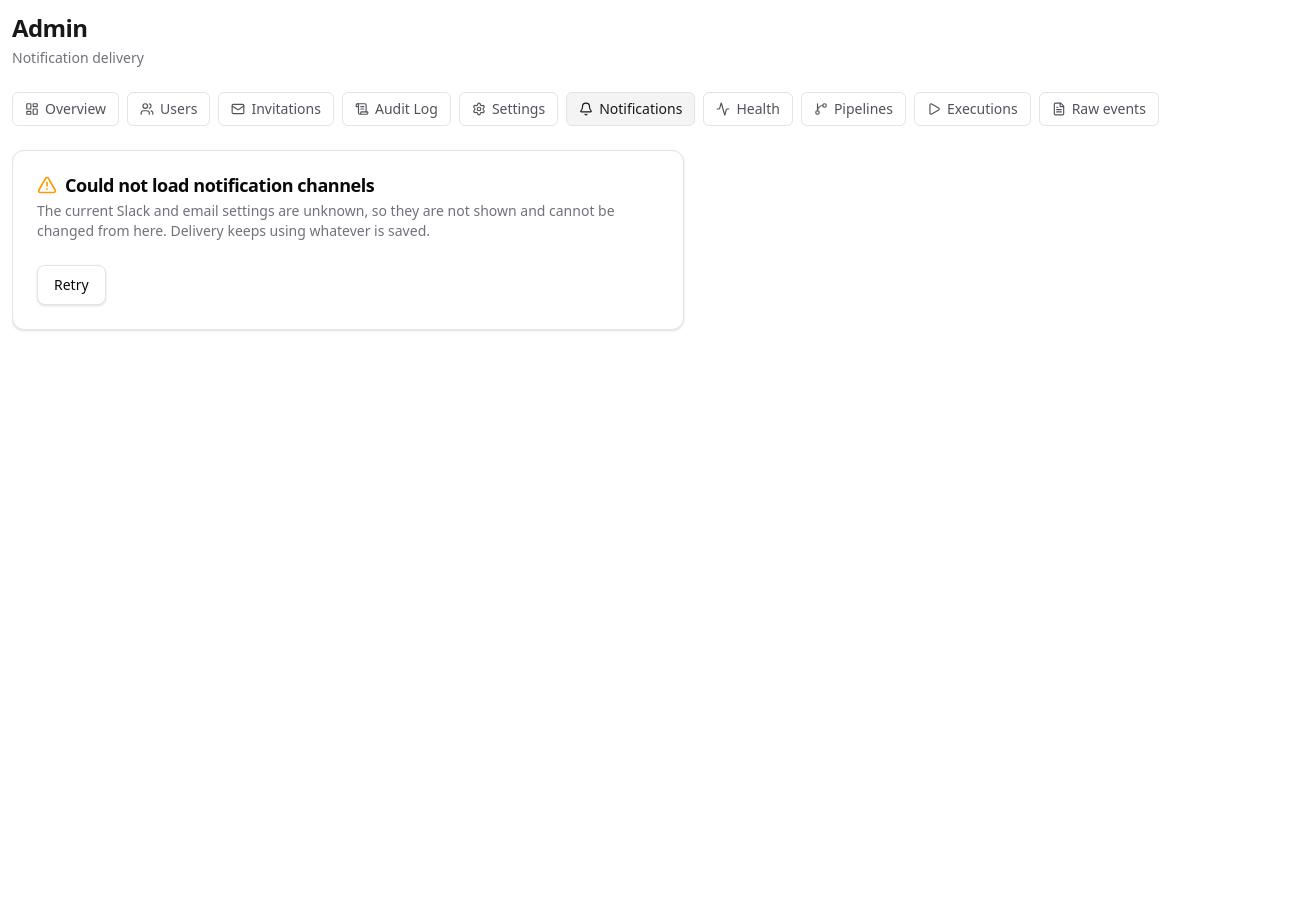
Test: Admin Notifications — fail closed › retries and then shows the saved settings
The image size is (1292, 900).
Click the button "Retry" at {"x": 71, "y": 285}, box x1=37 y1=265 x2=106 y2=305
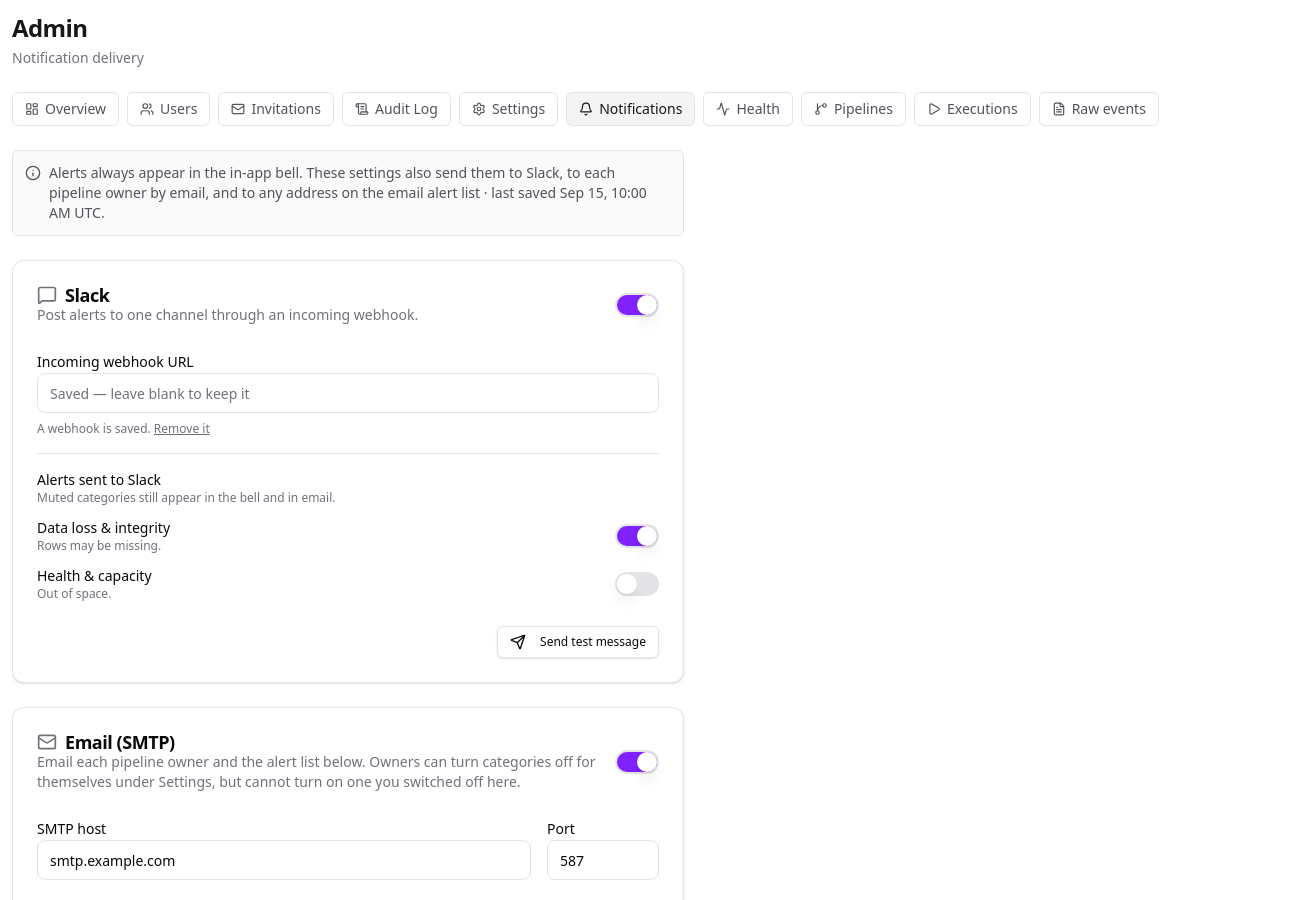
expect the field labelled "SMTP host" holds "smtp.example.com": met, box x1=37 y1=840 x2=531 y2=880
